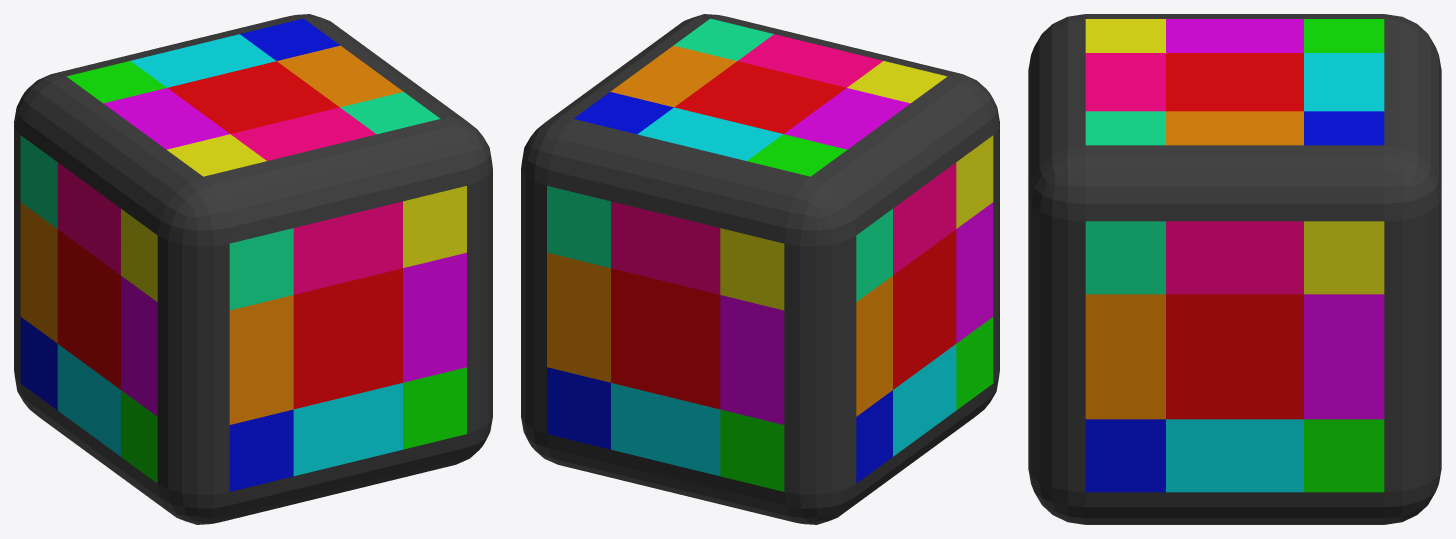
The model's file is Scrap08.fbx.
3 renders of one model, left to right at view 1: azimuth 30°, elevation 25°; view 2: azimuth 150°, elevation 25°; view 3: azimuth 270°, elevation 25°, orthographic. The views are drawn at different scales.
Visible parts, largest first — view 1: Cube; view 2: Cube; view 3: Cube.
Part boxes in pixels (x1=…): Cube: x1=14, y1=14, x2=492, y2=524; Cube: x1=521, y1=14, x2=999, y2=524; Cube: x1=1028, y1=14, x2=1441, y2=524.
Size of the model in its own units: 200 by 200 by 200.
